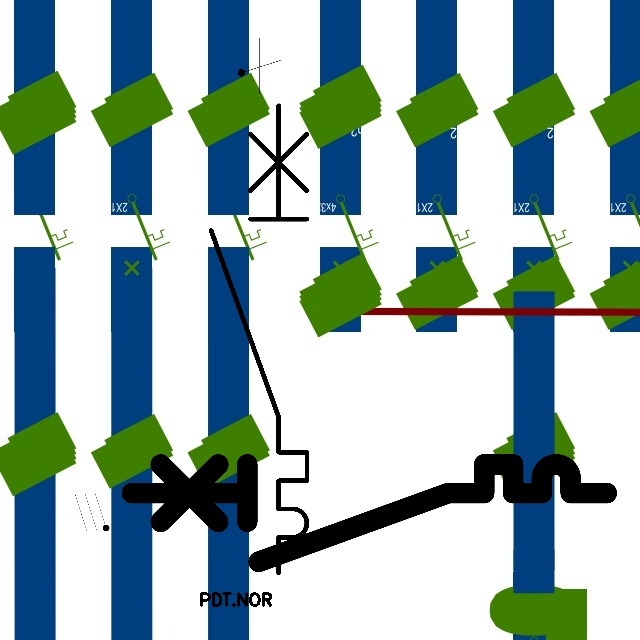interruptor_termomagnetico: (119, 452, 619, 574), (199, 93, 319, 584)
